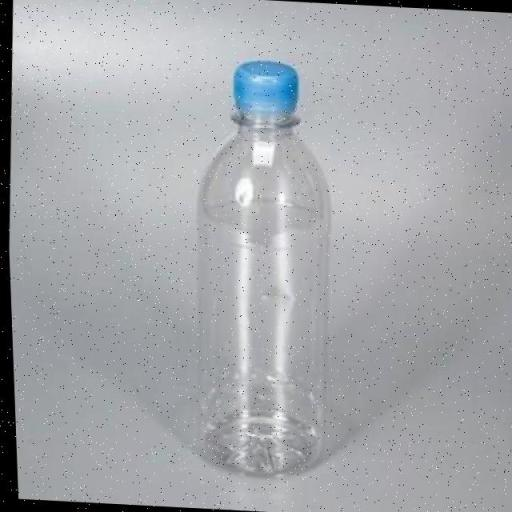plastic: (164, 38, 360, 496)
